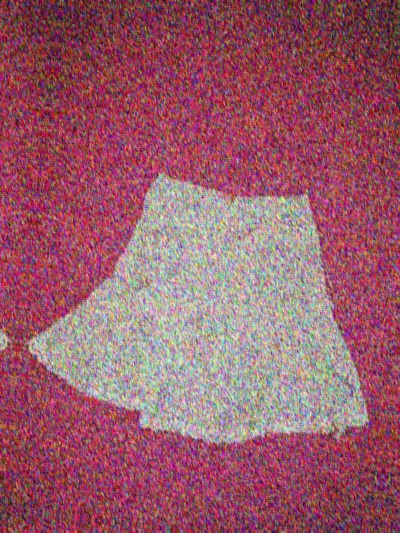Dress: (6, 93, 400, 485), (0, 48, 50, 440), (399, 143, 400, 533)
